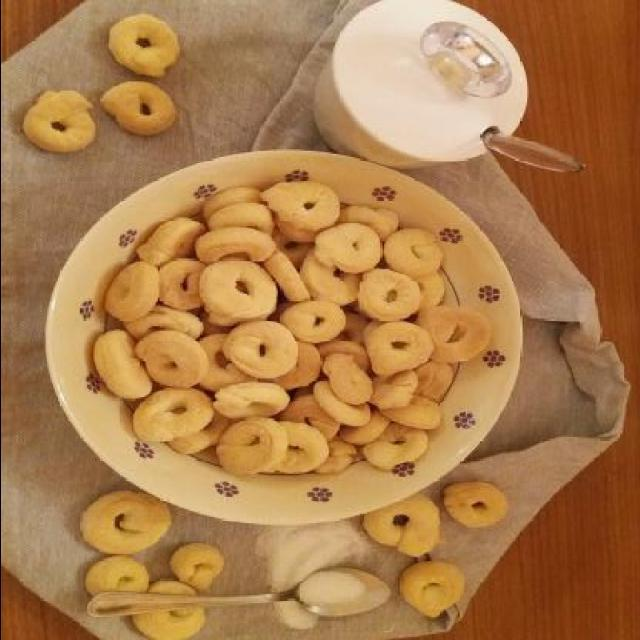Taralli: (86, 178, 489, 478), (22, 12, 178, 156), (78, 492, 226, 638), (364, 482, 507, 624)
